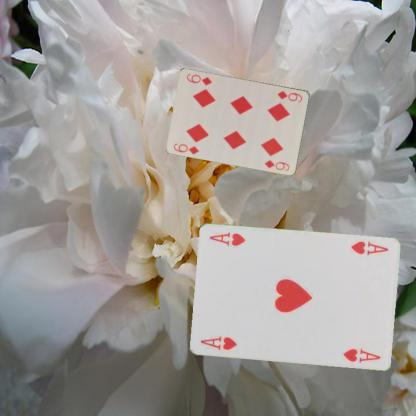6d: (171, 140, 201, 156), (275, 88, 304, 103)
Ah: (348, 238, 390, 257), (198, 333, 238, 352)
